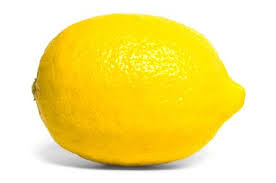lemon: (24, 10, 248, 174)
